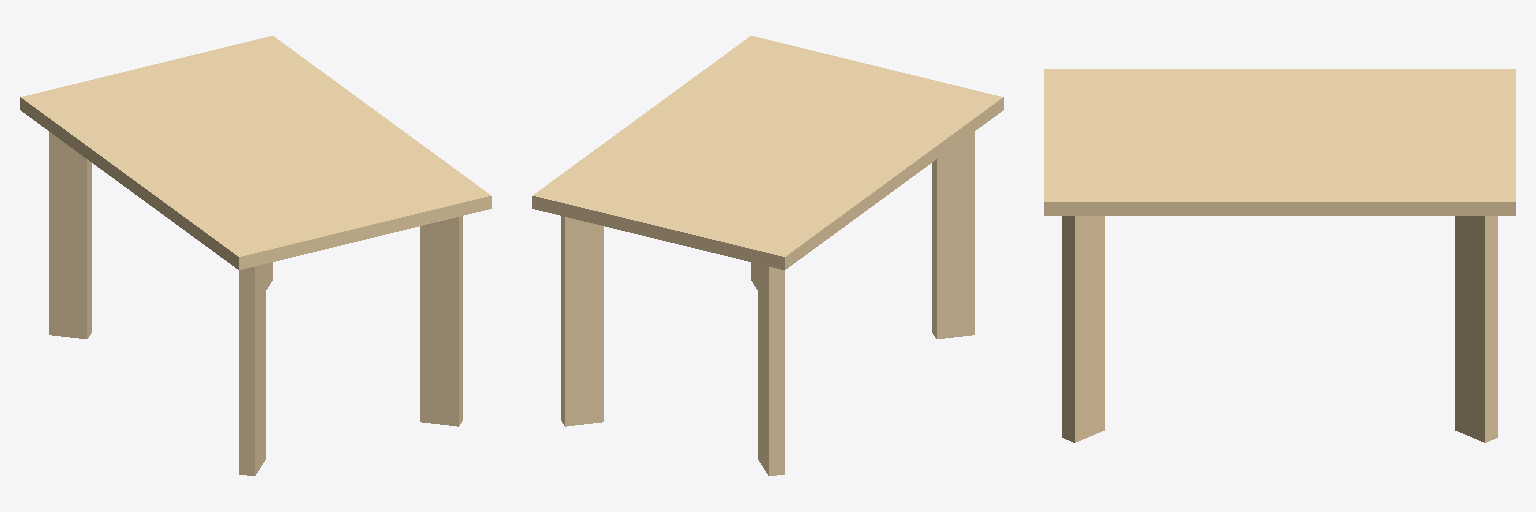
URDF robot description (karimoku-1200-desk):
<?xml version="1.0"?>
<robot name="karimoku-1200-desk"
       xmlns:xi="http://www.w3.org/2001/XInclude"
       >
  <gazebo>
    <static>false</static>
  </gazebo>
  <link name="nil_link">
    <visual>
      <origin xyz="0 0 0" rpy="0 -0 0"/>
      <geometry>
        <mesh filename="model://karimoku-1200-desk/meshes/nil_link_mesh.dae" scale="1 1 1" />
      </geometry>
    </visual>
    <collision>
      <origin xyz="0 0 0" rpy="0 -0 0"/>
      <geometry>
        <mesh filename="model://karimoku-1200-desk/meshes/nil_link_mesh.dae" scale="1 1 1" />
      </geometry>
    </collision>
    <inertial>
      <mass value="0.001" />
      <origin xyz="0 0 0" rpy="0 -0 0"/>
      <inertia ixx="1e-03" ixy="0" ixz="0" iyy="1e-03" iyz="0" izz="1e-03"/>
    </inertial>
  </link>
  <gazebo reference="nil_link">
    <mu1>0.9</mu1>
    <mu2>0.9</mu2>
  </gazebo>
</robot>

--- Render facts (derived) ---
3 views of the same robot in one strip: view 1: azimuth 30°, elevation 25°; view 2: azimuth 150°, elevation 25°; view 3: azimuth 270°, elevation 25° (orthographic).
Robot: karimoku-1200-desk — 1 links, 0 joints (none); root link nil_link; default pose: all joints at 0.
Links seen in each view (by area): view 1: nil_link; view 2: nil_link; view 3: nil_link.
Boxes of the visible links, x1,y1,x2,y2 form: nil_link: (20,36,491,475); nil_link: (532,36,1003,475); nil_link: (1044,69,1515,442).
Bounding box of the posed robot: 0.8 × 1.2 × 0.7 m (x, y, z).
Meshes: 1 distinct files referenced, 1 mesh visuals loaded (1 Collada DAE).